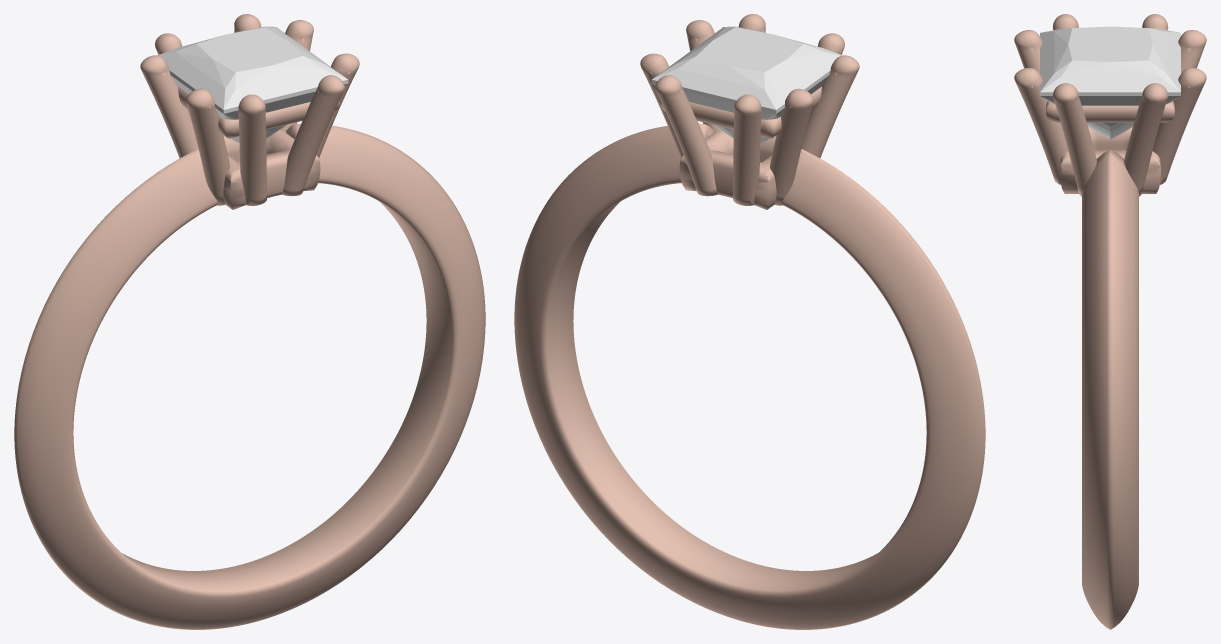
Rendered from diamond-princess-rosegold-8prong-knifeedge-solitaire.glb.
3 views of the same model, side by side, from view 1: azimuth 30°, elevation 25°; view 2: azimuth 150°, elevation 25°; view 3: azimuth 270°, elevation 25° (orthographic). The views are drawn at different scales.
Parts seen in each view (by area): view 1: metal, stone; view 2: metal, stone; view 3: metal, stone.
Part boxes in pixels (<box>): metal: <box>14,14,485,629</box>; stone: <box>157,26,348,142</box>; metal: <box>514,14,985,629</box>; stone: <box>651,26,842,142</box>; metal: <box>1014,14,1206,629</box>; stone: <box>1040,26,1180,139</box>.
Bounding box in the file's own units: 20.51 × 23.85 × 7.42.
